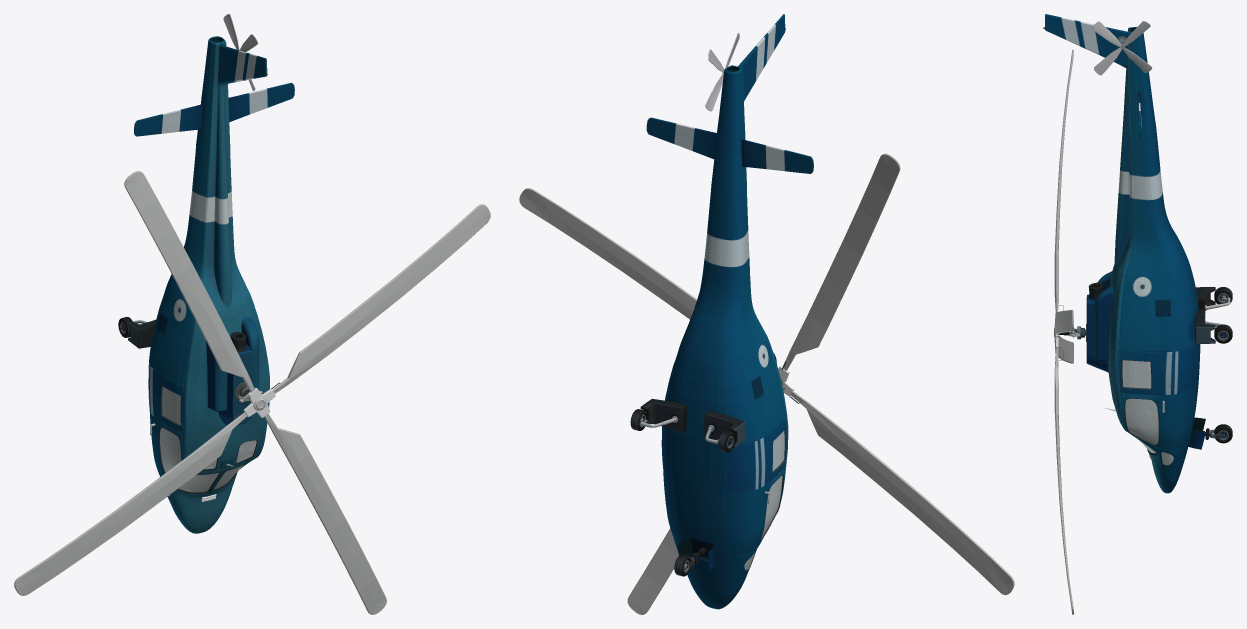
The model's file is img.obj.
3 renders of one model, left to right at view 1: azimuth 30°, elevation 25°; view 2: azimuth 150°, elevation 25°; view 3: azimuth 270°, elevation 25°, orthographic. The views are drawn at different scales.
Parts seen in each view (by area): view 1: Object.1; view 2: Object.1; view 3: Object.1.
Boxes of the visible parts, left/top/right/bottom form: Object.1: left=14, top=14, right=490, bottom=614; Object.1: left=519, top=14, right=1014, bottom=614; Object.1: left=1043, top=14, right=1232, bottom=614.
Size of the model in its own units: 37641 by 45165 by 14200.
Materials: 1 (1 with a texture image).
